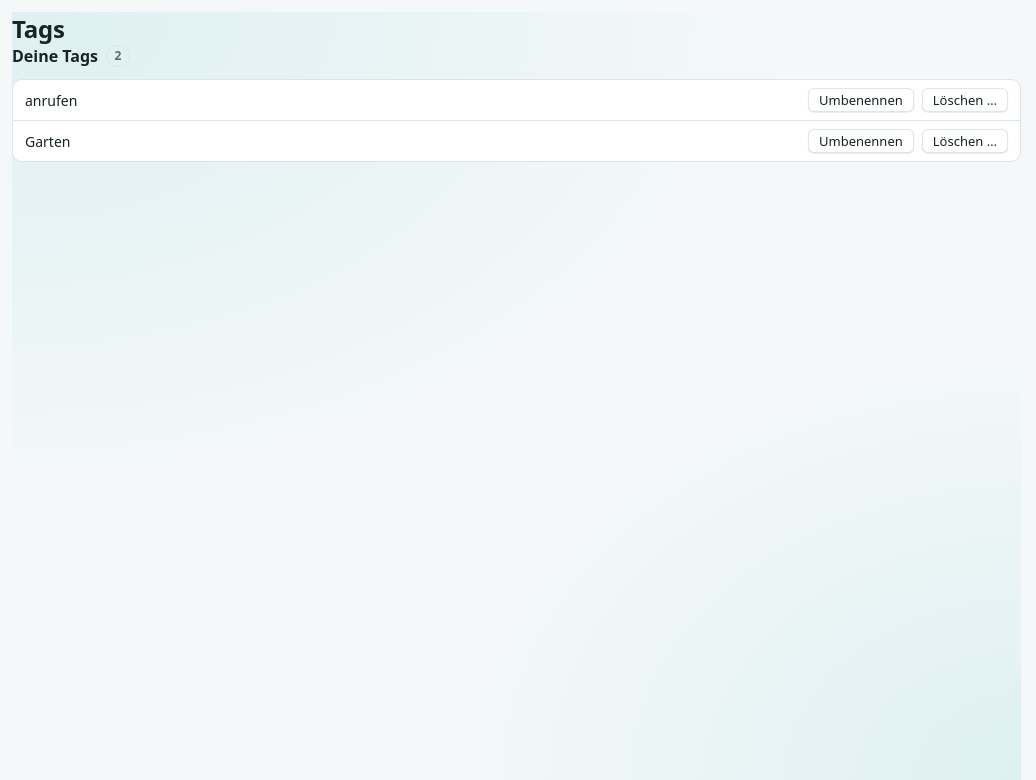
tag manager › cancels renaming with Escape without a request
Click the button with aria-label "Tag „Garten“ umbenennen".
click(861, 141)  # box [808,129,914,153]
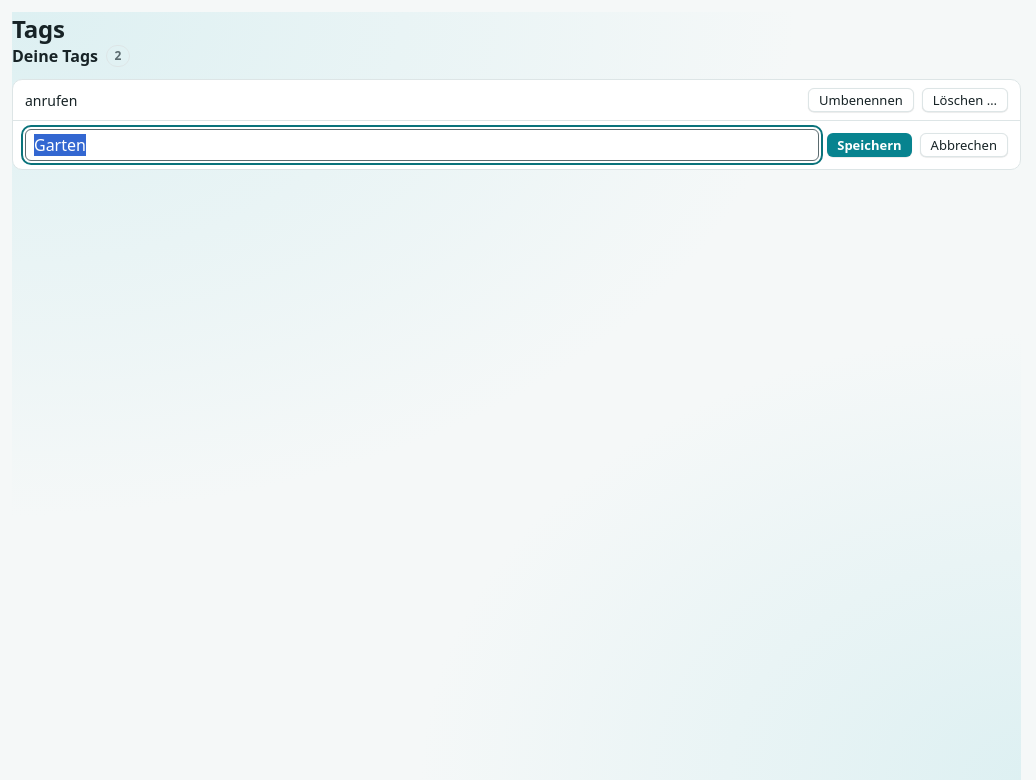
Press Escape in the field, box [25,129,819,161]
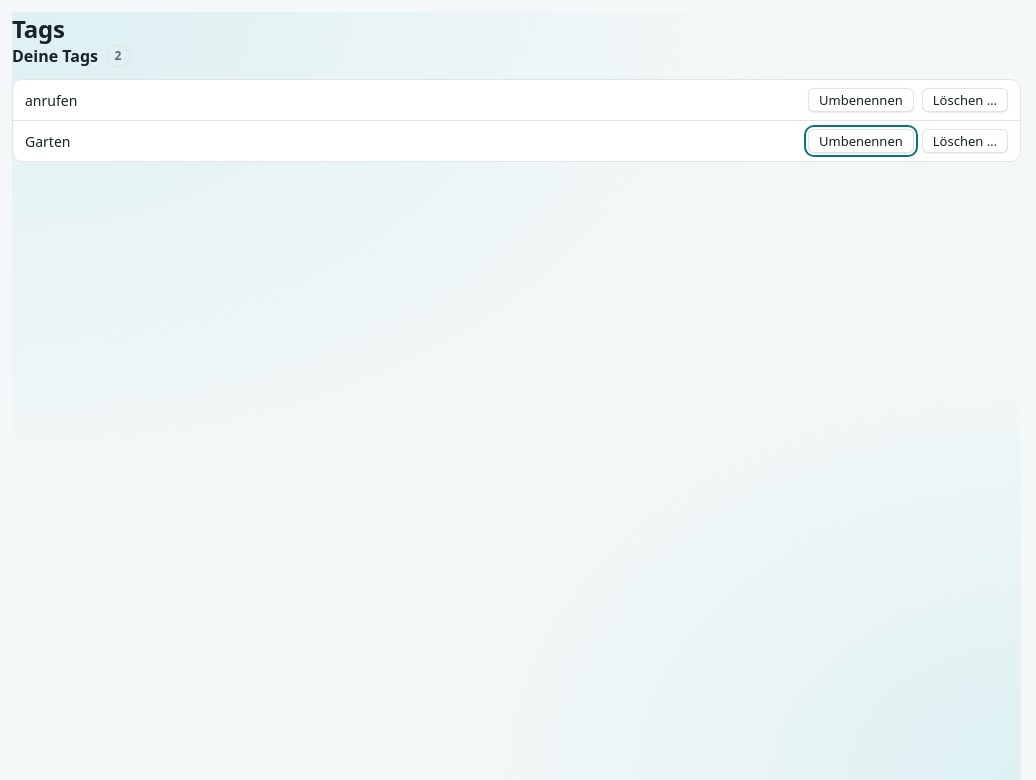
Result: the field is gone
